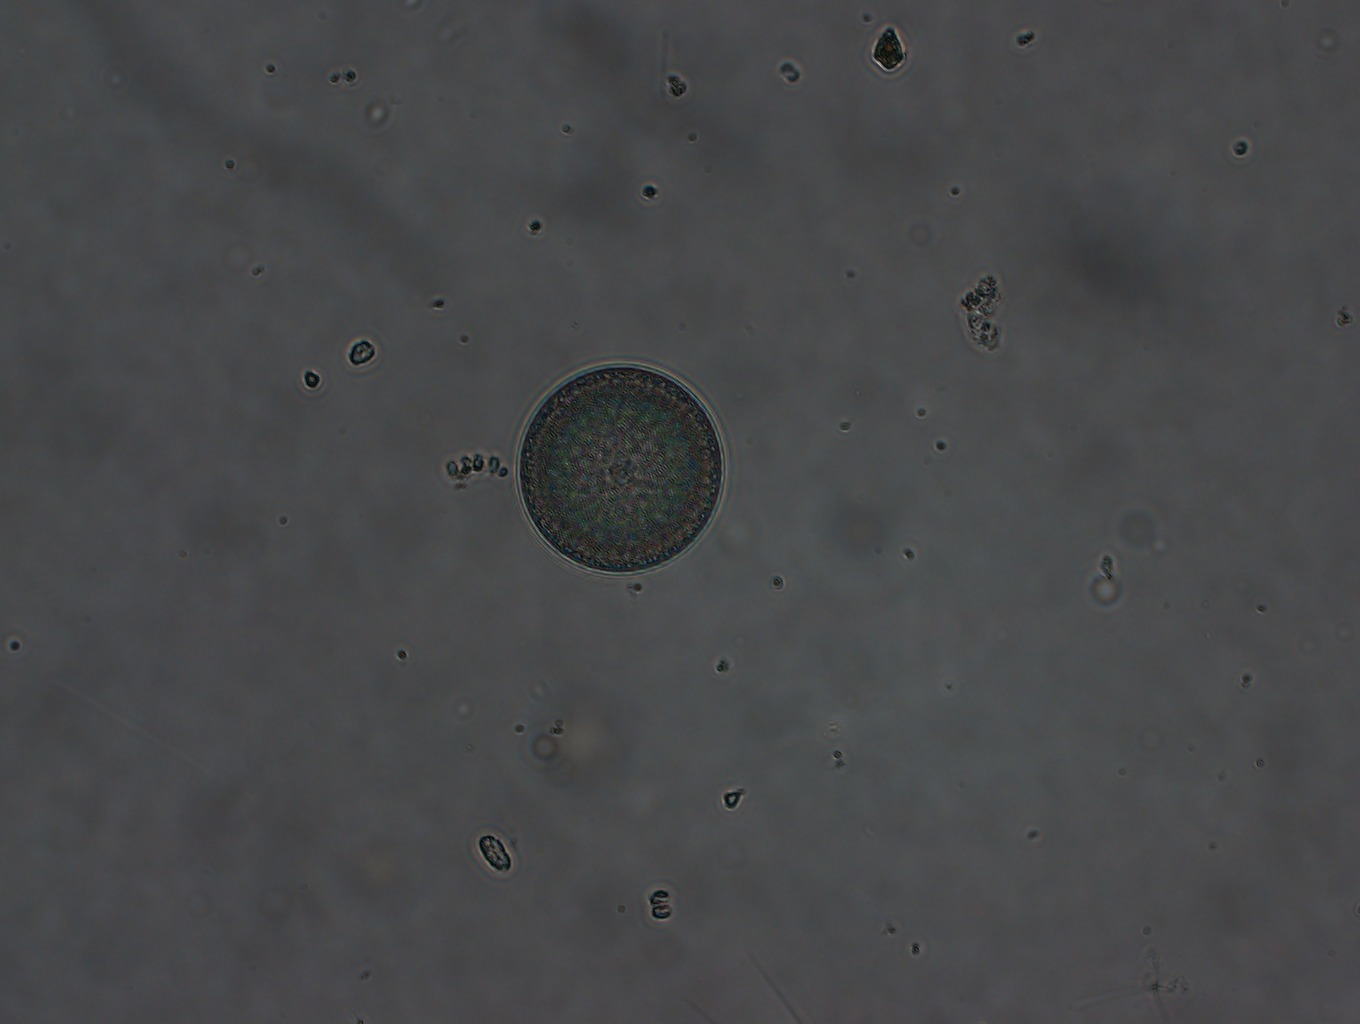chaetoceros: (511, 355, 729, 580)
